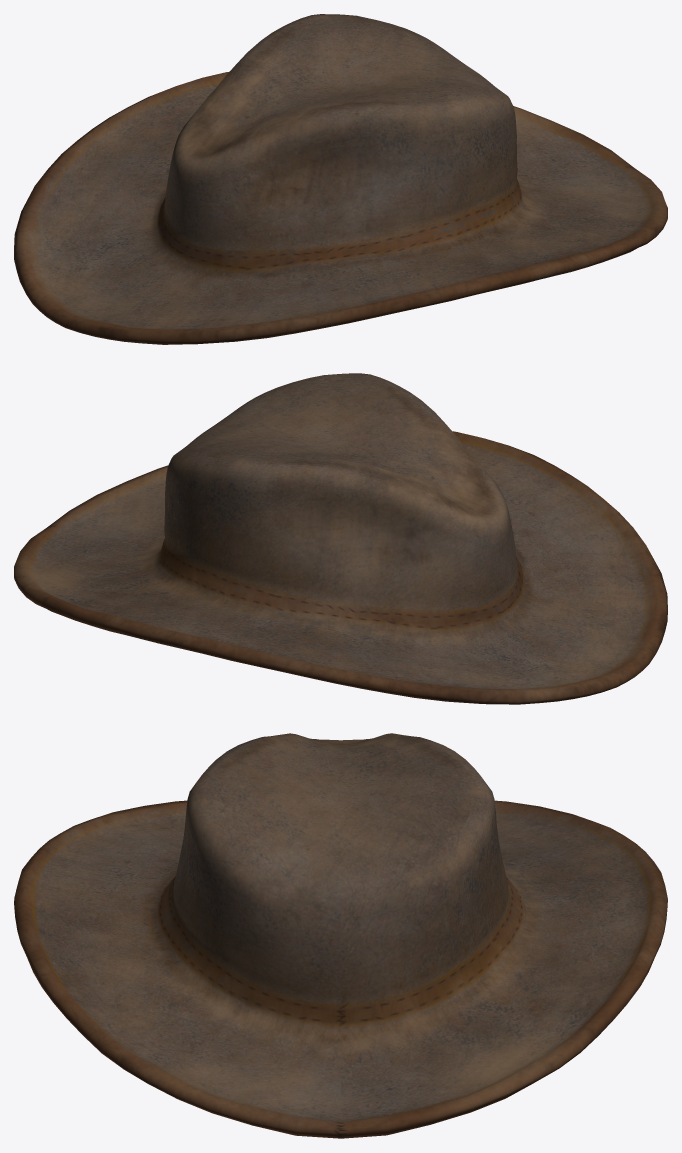
Rendered from hat..glb.
The picture shows the model from 3 angles, top to bottom: view 1: azimuth 30°, elevation 25°; view 2: azimuth 150°, elevation 25°; view 3: azimuth 270°, elevation 25°; orthographic projection. The views are drawn at different scales.
Parts seen in each view (by area): view 1: Hat_0; view 2: Hat_0; view 3: Hat_0.
Boxes of the visible parts, x1,y1,x2,y2 form: Hat_0: [14, 14, 667, 344]; Hat_0: [14, 373, 667, 704]; Hat_0: [14, 733, 667, 1138].
Bounding box in the file's own units: 0.3878 × 0.1152 × 0.3228.
1 material, 1 textured.
